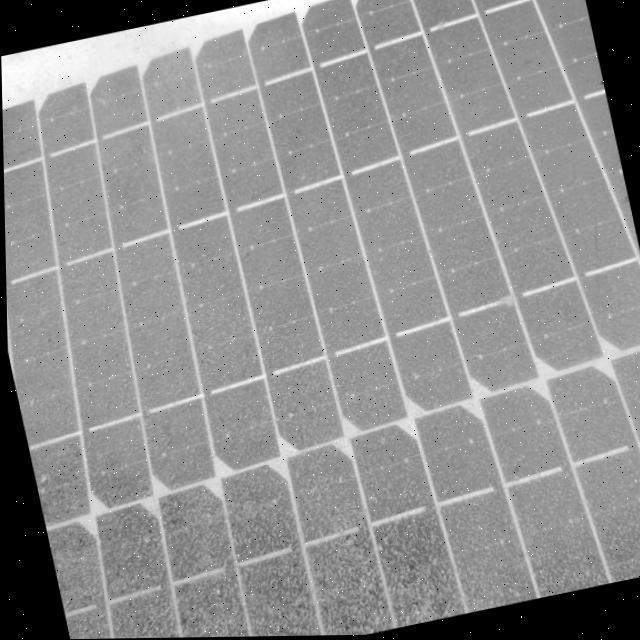Surface Contaminant: (1, 0, 640, 488)
